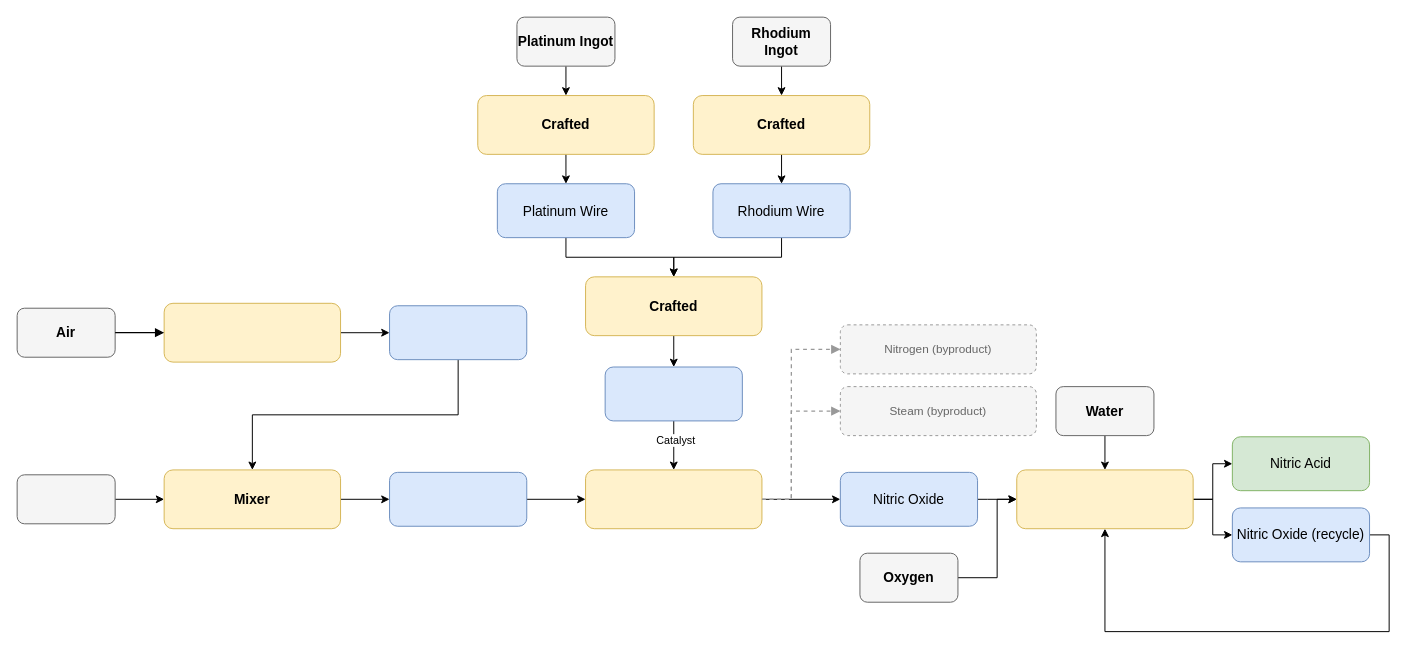
Some shapes in this 1414 by 657 pixel diagram are drawn without their labels. Here are the shapes that lost their labels. From the top down, the centre of each, then its label:
At [252,332]: "Air Compressor".
At [458,332]: "Compressed Air".
At [673,393]: "Platinum-Rhodium Gauze".
At [65,499]: "Ammonia".
At [458,498]: "Ammonia Air Mixture".
At [673,499]: "Catalyst Chamber".
At [1104,499]: "Absorption Tower".
